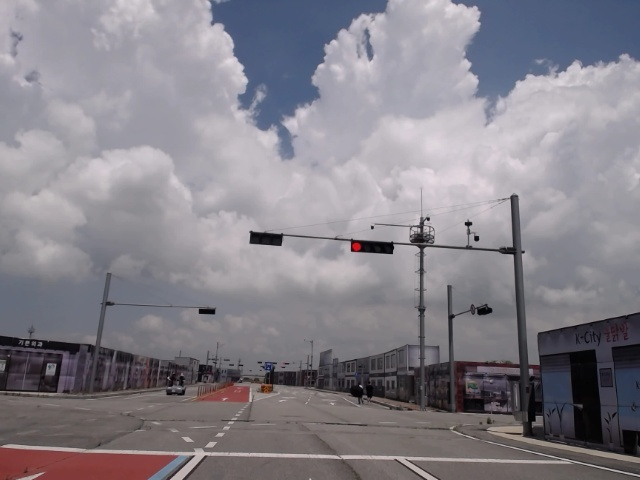red_4: (351, 240, 393, 254)
